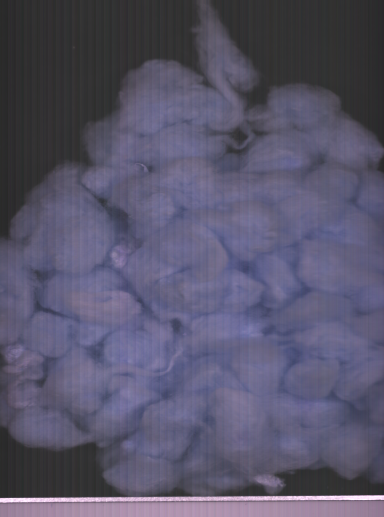Cotton: (189, 171, 331, 210), (29, 196, 94, 262), (315, 250, 358, 345), (145, 255, 228, 304), (120, 326, 155, 404), (138, 424, 184, 480), (175, 363, 221, 414), (214, 431, 278, 467), (57, 280, 122, 315), (130, 77, 187, 116), (216, 221, 299, 245), (290, 434, 368, 458), (191, 319, 256, 344), (230, 393, 279, 424), (130, 179, 165, 219), (276, 92, 323, 121), (163, 220, 207, 250), (328, 119, 354, 159), (347, 359, 374, 396), (16, 422, 71, 440), (205, 28, 224, 77), (245, 353, 276, 383), (196, 92, 232, 117), (258, 263, 287, 294), (161, 131, 187, 165), (59, 373, 93, 398), (284, 405, 336, 418), (113, 138, 129, 180), (262, 143, 295, 163), (28, 324, 64, 341), (294, 367, 323, 388), (196, 141, 223, 154), (292, 304, 306, 325), (116, 252, 135, 266), (225, 366, 237, 386)
PE_background: (10, 30, 112, 109), (4, 455, 92, 497), (116, 7, 183, 55), (242, 19, 380, 36), (250, 43, 381, 59), (265, 65, 384, 82), (7, 124, 60, 155), (5, 164, 23, 198), (342, 88, 384, 99)
